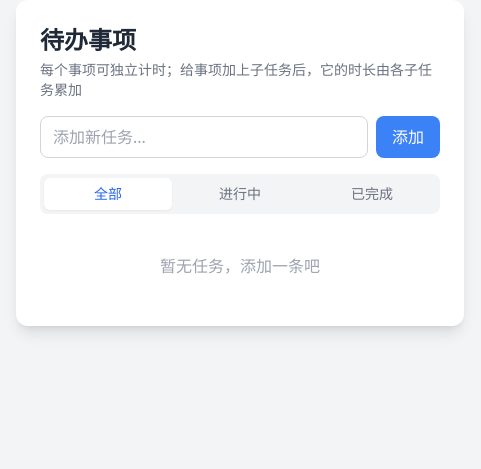
Test: 添加任务
Type "学习 React" into the field with placeholder "添加新任务..." at (204, 137), box [40,116,368,158]
Then press Enter
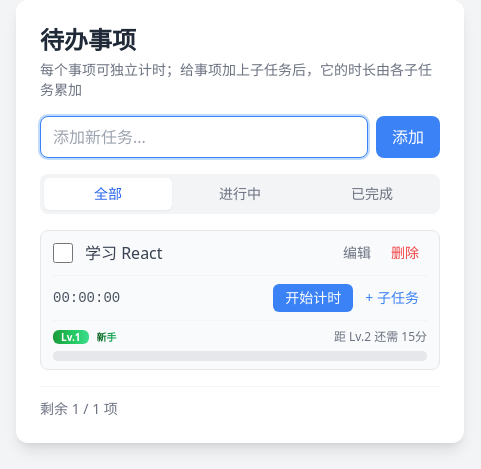
Check: the text "学习 React" is shown, box [85,242,163,264]
